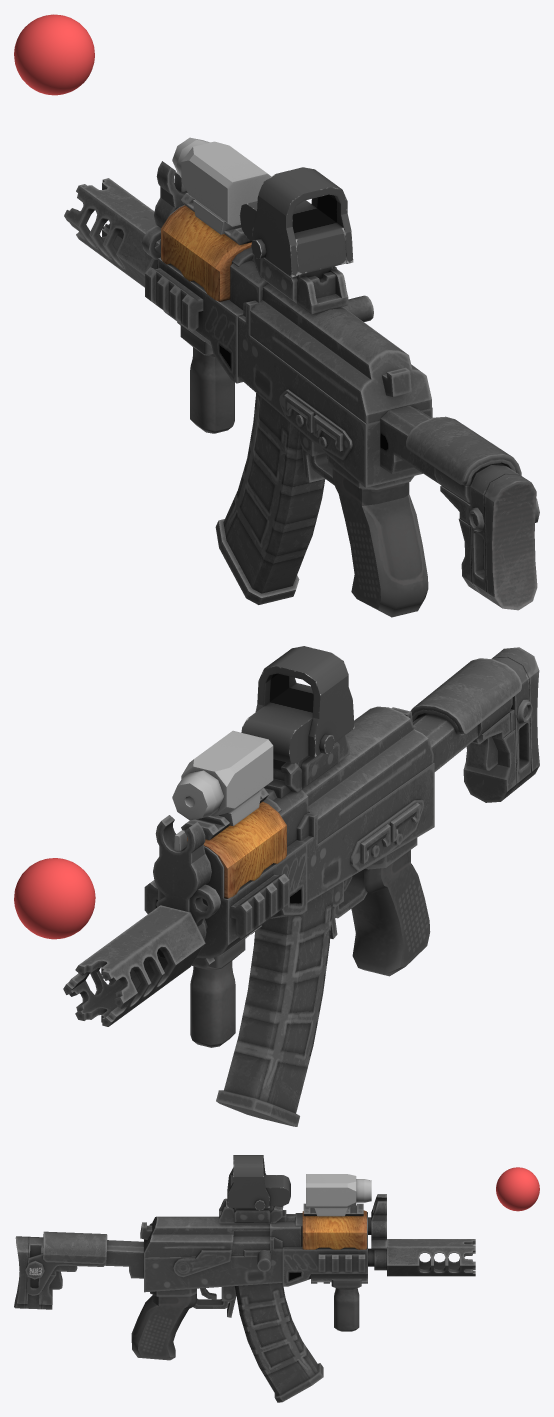
The model's file is IG_Gun_AK74U_Tagilla.fbx.
3 renders of one model, top to bottom at view 1: azimuth 30°, elevation 25°; view 2: azimuth 150°, elevation 25°; view 3: azimuth 270°, elevation 25°, orthographic. The views are drawn at different scales.
Visible parts, largest first — view 1: WPN_AK74U_T, HitMarker; view 2: WPN_AK74U_T, HitMarker; view 3: WPN_AK74U_T, HitMarker.
Boxes of the visible parts, <box> form: WPN_AK74U_T: <box>64,137,539,617</box>; HitMarker: <box>14,14,94,95</box>; WPN_AK74U_T: <box>63,646,539,1126</box>; HitMarker: <box>14,858,95,939</box>; WPN_AK74U_T: <box>14,1155,475,1402</box>; HitMarker: <box>496,1167,539,1211</box>.
Size of the model in its own units: 0.1658 by 0.5381 by 1.07.
